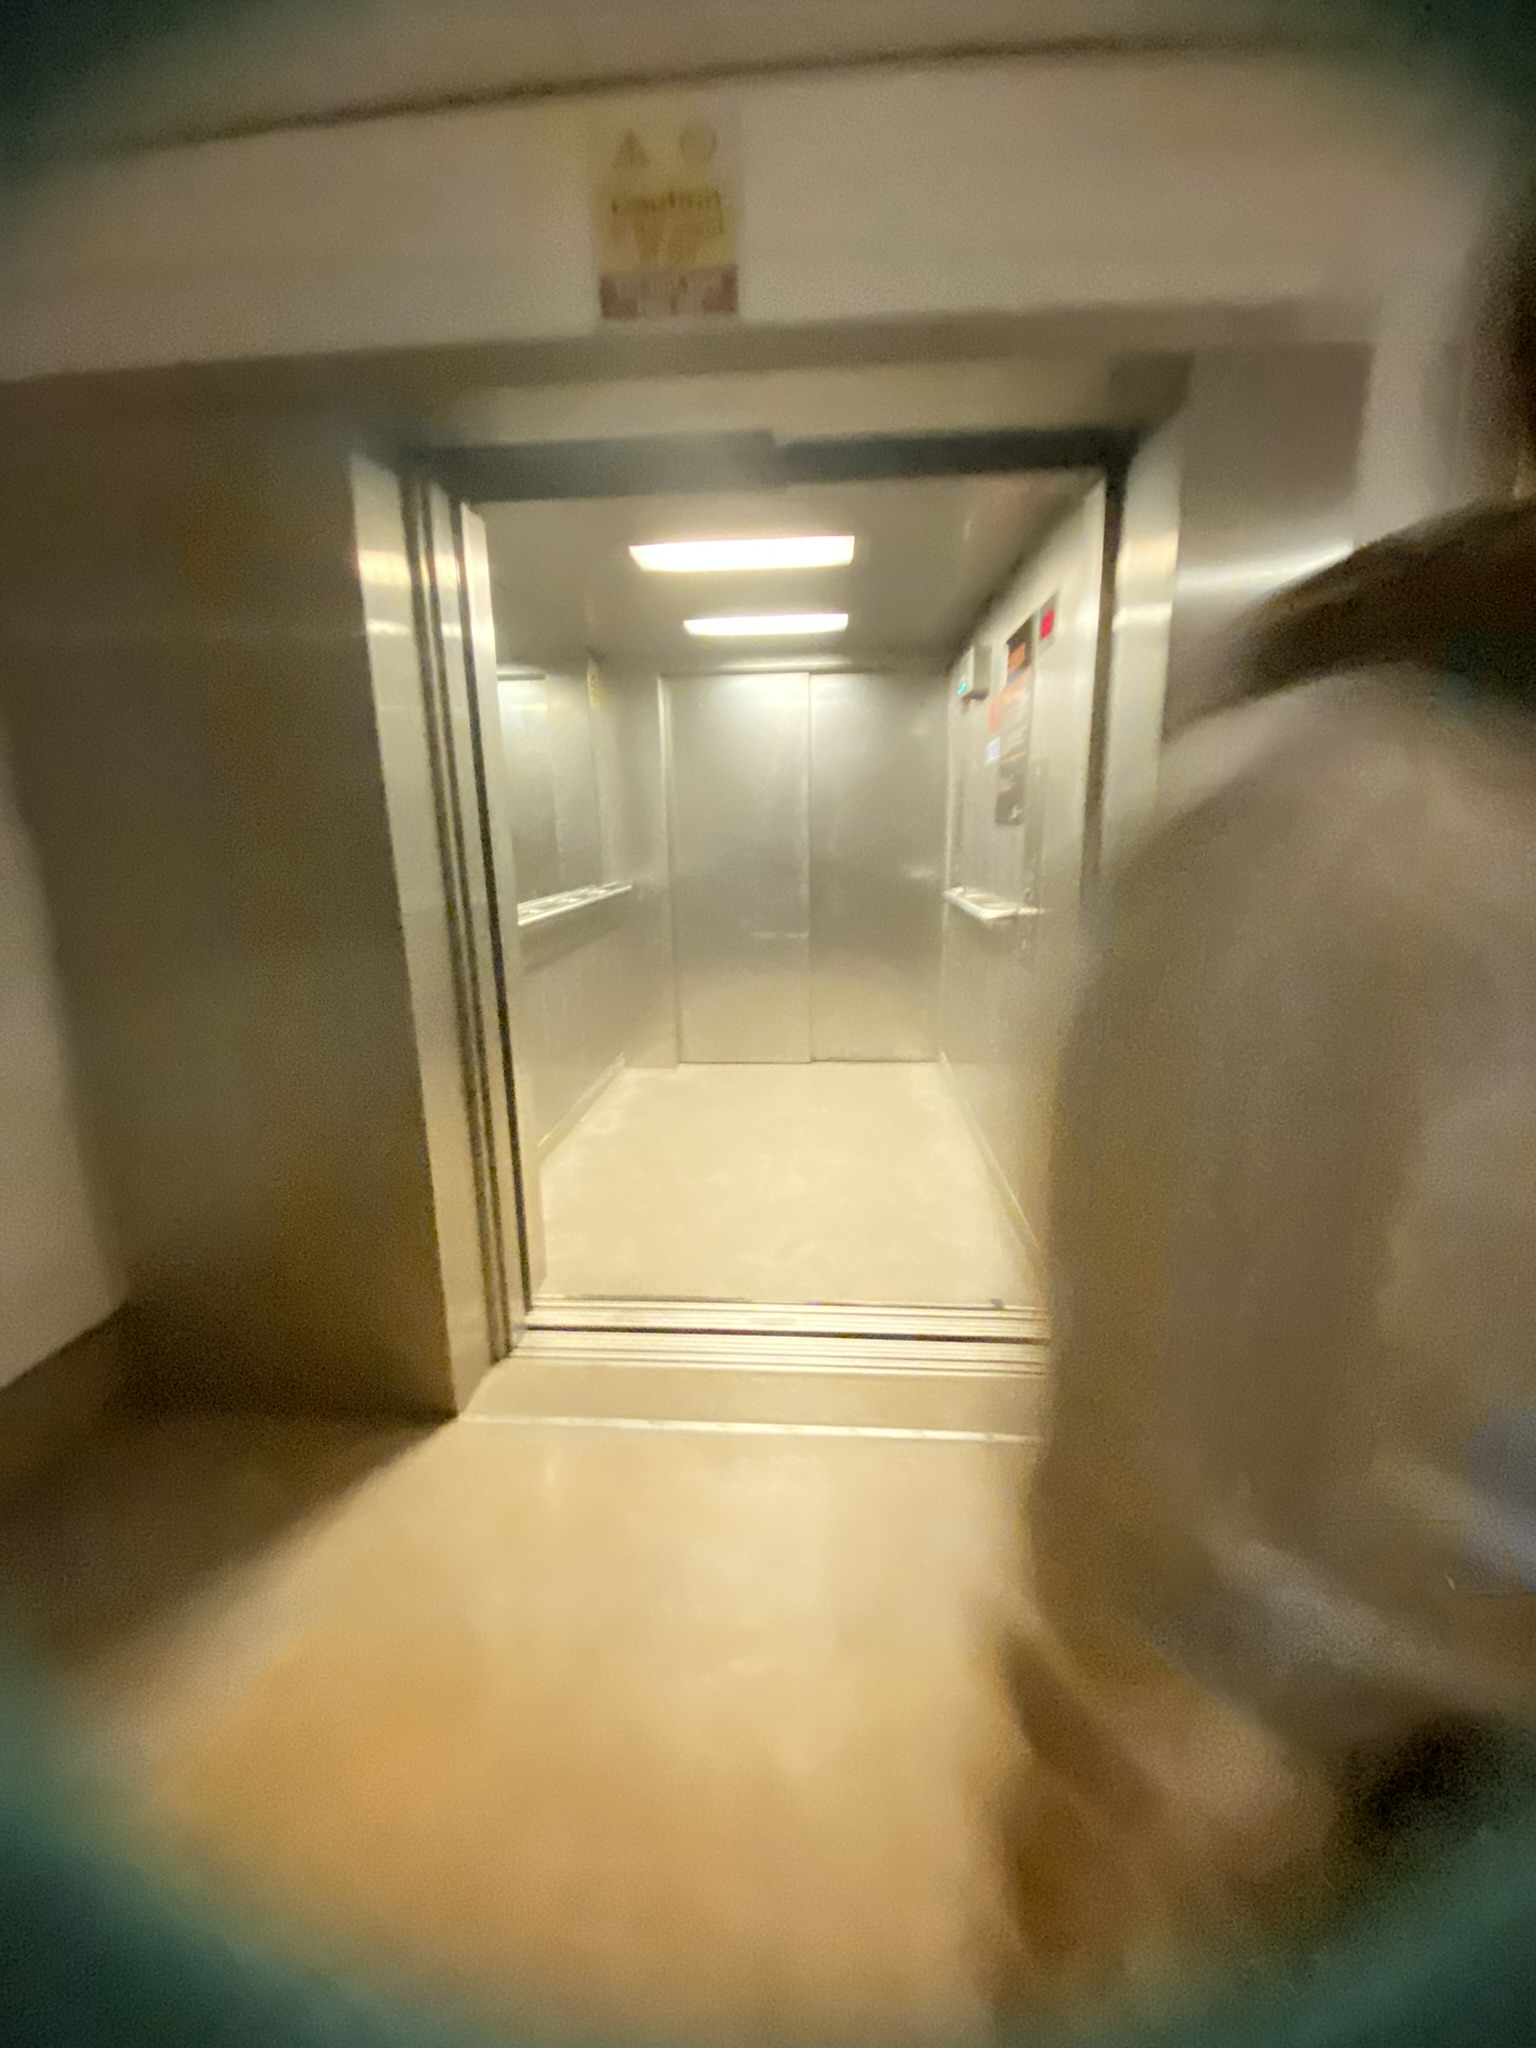lift: (190, 358, 1350, 1517)
